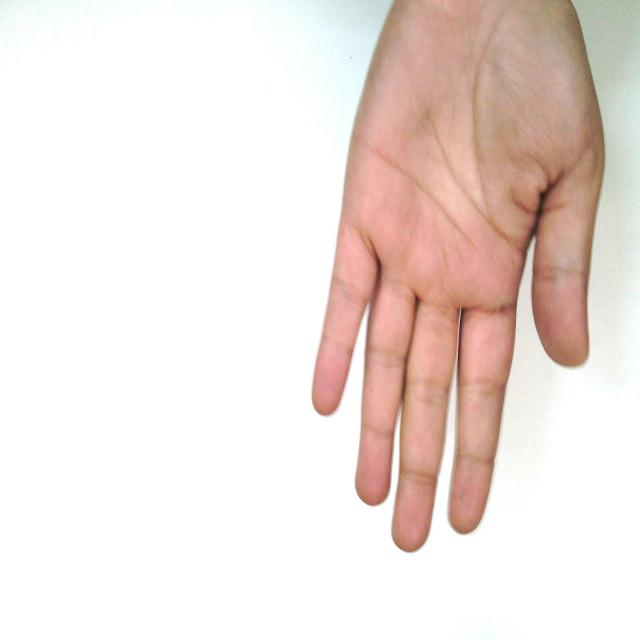others: (297, 1, 632, 558)
